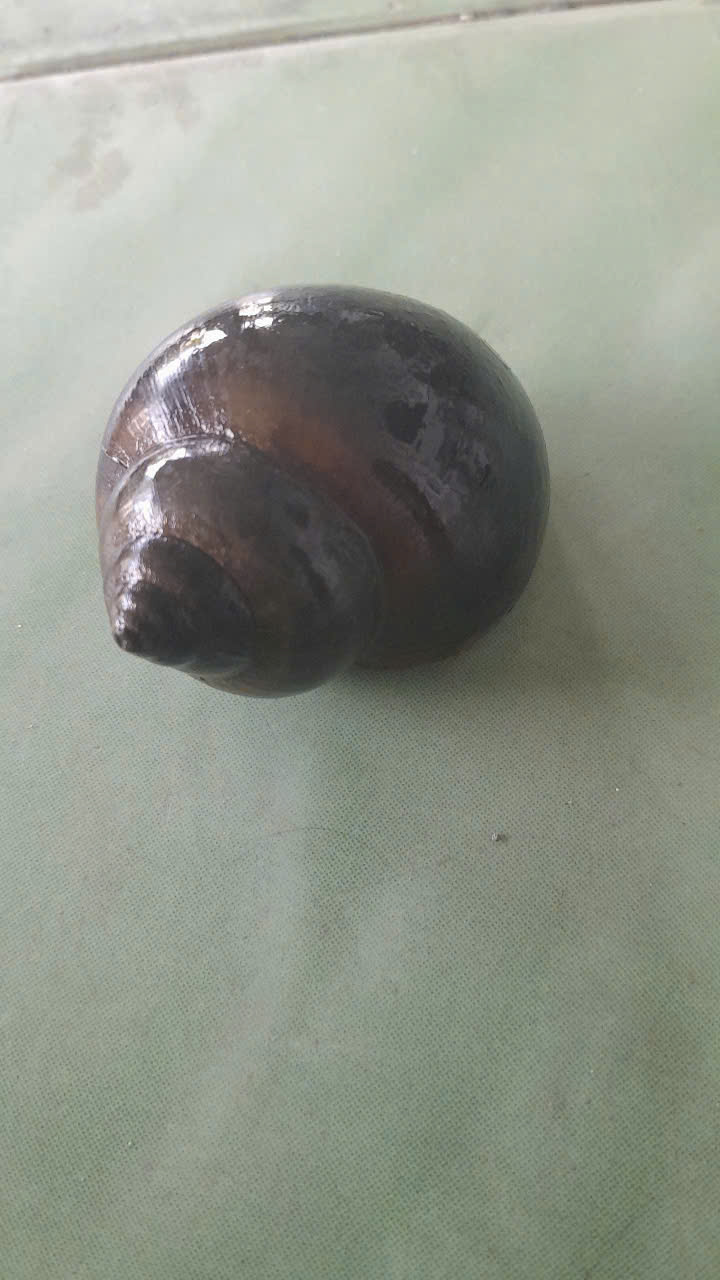oc_buou_den: (66, 244, 568, 771)
